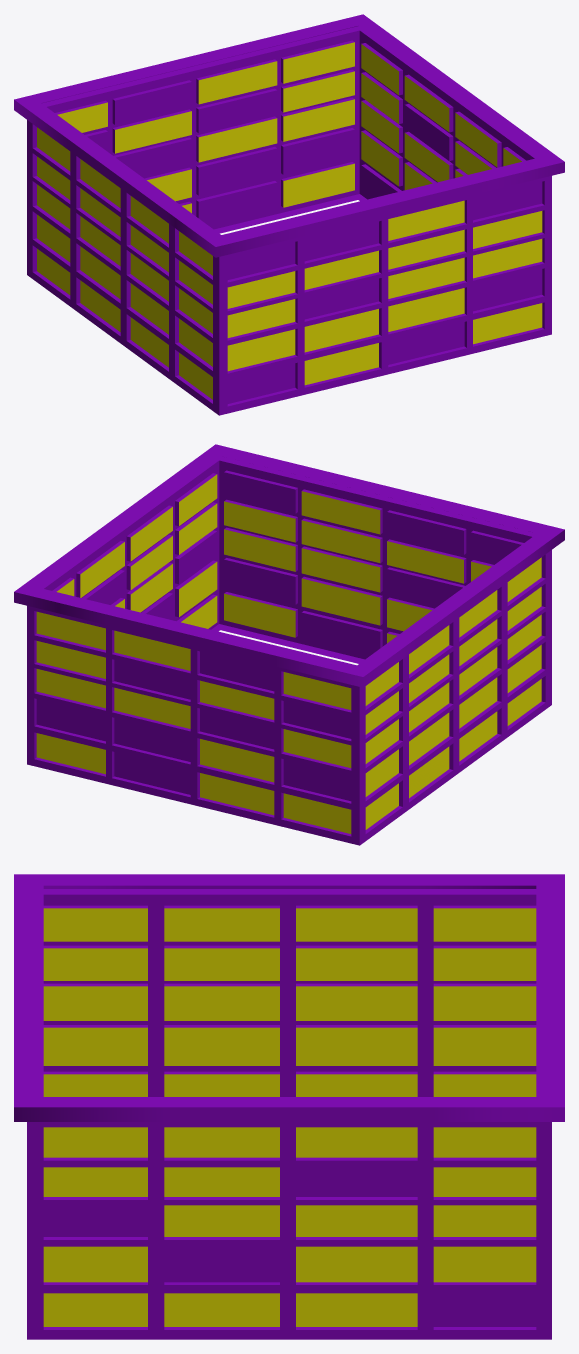
File: Building_Large_Peice_001.fbx
The picture shows the model from 3 angles, top to bottom: view 1: azimuth 30°, elevation 25°; view 2: azimuth 150°, elevation 25°; view 3: azimuth 270°, elevation 25°; orthographic projection. The views are drawn at different scales.
Visible parts, largest first — view 1: Building_Large_Piece_001; view 2: Building_Large_Piece_001; view 3: Building_Large_Piece_001.
Part boxes in pixels (x1,y1,x2,y2): Building_Large_Piece_001: (14, 14, 564, 415); Building_Large_Piece_001: (14, 444, 564, 845); Building_Large_Piece_001: (14, 874, 564, 1339).
Bounding box in the file's own units: 8400 × 4000 × 8400.
